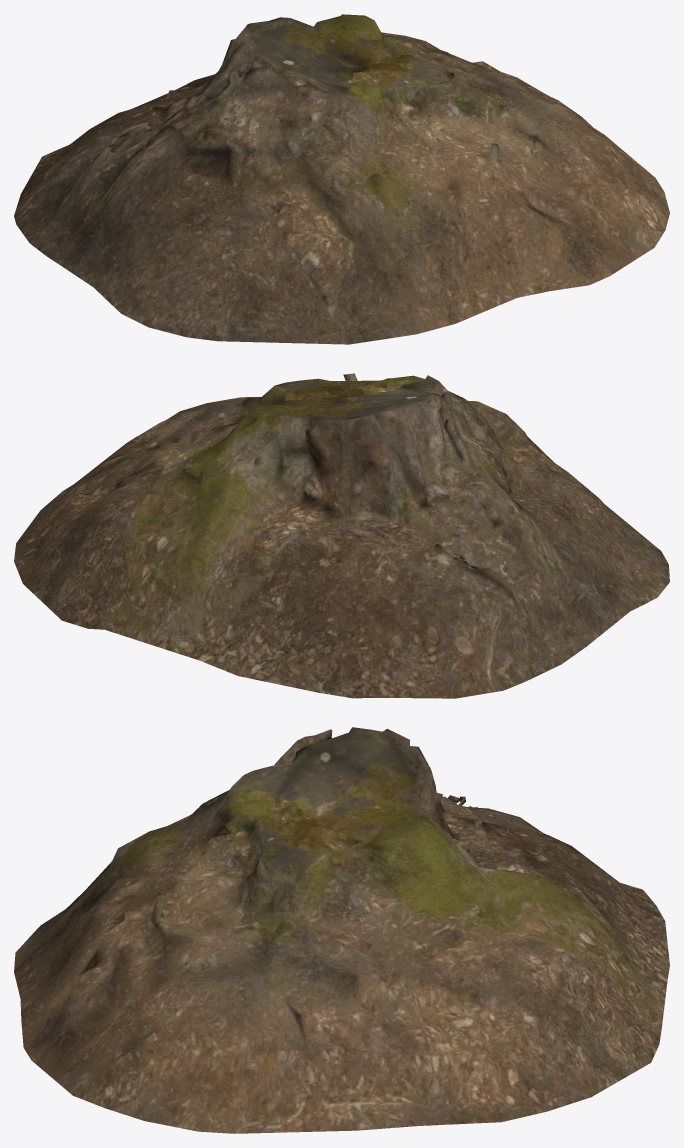
The model's file is tree_stump_02.glb.
3 views of the same model, one above another, from view 1: azimuth 30°, elevation 25°; view 2: azimuth 150°, elevation 25°; view 3: azimuth 270°, elevation 25° (orthographic). The views are drawn at different scales.
Visible parts, largest first — view 1: tree_stump_02; view 2: tree_stump_02; view 3: tree_stump_02.
Part boxes in pixels (bbox=[...]): tree_stump_02: bbox=[14, 14, 669, 344]; tree_stump_02: bbox=[14, 373, 669, 698]; tree_stump_02: bbox=[14, 727, 669, 1133].
Bounding box in the file's own units: 1.52 × 0.5183 × 1.39.
Materials: 1 (1 with a texture image).
